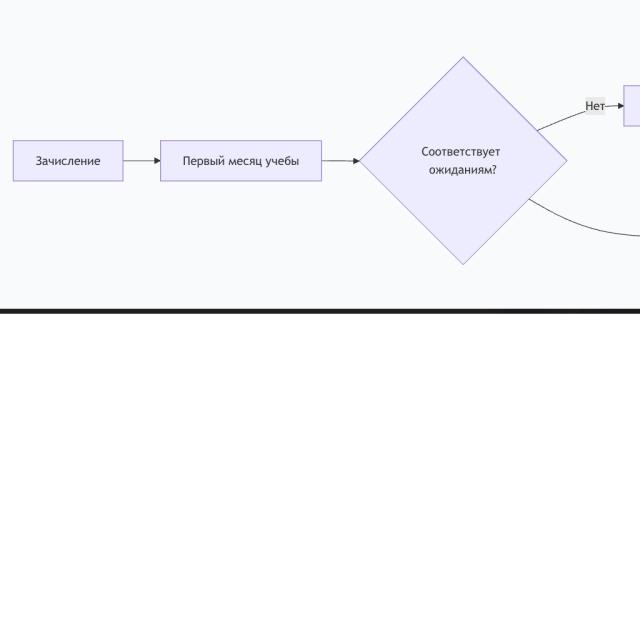arrow: (537, 102, 623, 129), (122, 156, 161, 166), (323, 156, 361, 166)
diamond: (361, 56, 567, 265)
rectangle: (160, 140, 321, 181), (14, 140, 123, 181)
text_region: (586, 97, 604, 115)
